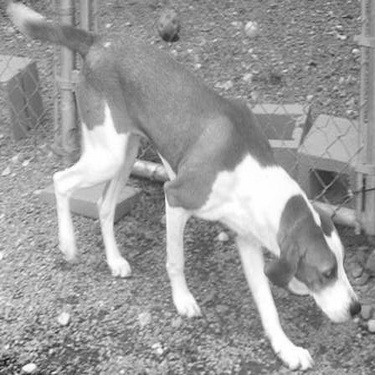dog: (6, 5, 365, 371)
